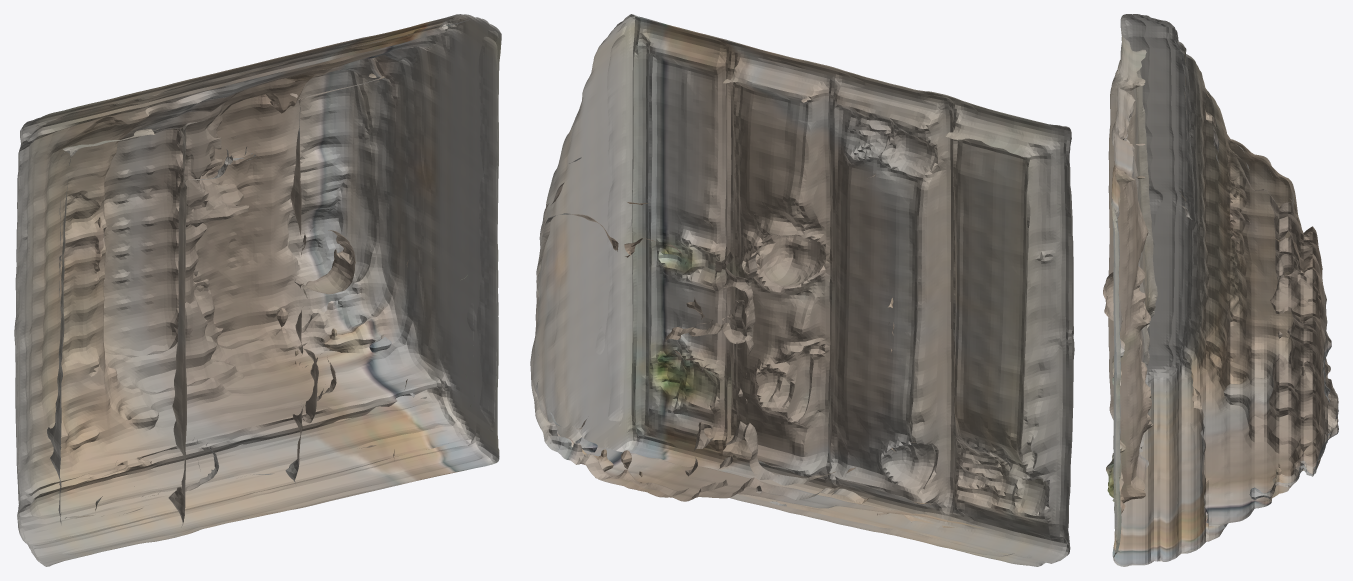
Rendered from gen_567_1783913635.glb.
3 renders of one model, left to right at view 1: azimuth 30°, elevation 25°; view 2: azimuth 150°, elevation 25°; view 3: azimuth 270°, elevation 25°, orthographic. The views are drawn at different scales.
Visible parts, largest first — view 1: world; view 2: world; view 3: world.
Boxes of the visible parts, <box> form: world: <box>14,14,501,566</box>; world: <box>530,14,1074,566</box>; world: <box>1103,14,1338,566</box>.
Size of the model in its own units: 1.01 by 0.9177 by 0.5278.
